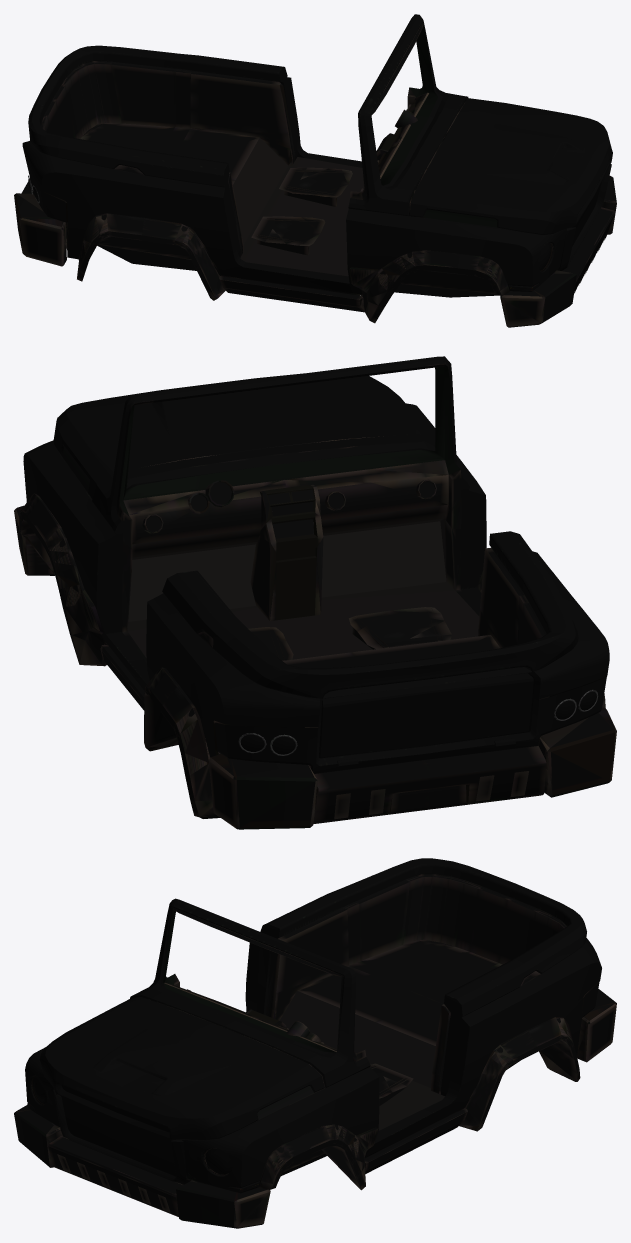
The model's file is vanFrame.fbx.
The picture shows the model from 3 angles, top to bottom: view 1: azimuth 30°, elevation 25°; view 2: azimuth 150°, elevation 25°; view 3: azimuth 270°, elevation 25°; orthographic projection. The views are drawn at different scales.
Visible parts, largest first — view 1: node_id34, node_id32, node_id46; view 2: node_id32, node_id34, node_id52, node_id38; view 3: node_id34, node_id32, node_id42, node_id50.
Part boxes in pixels (x1,y1,x2,y2): node_id34: (22, 14, 612, 294); node_id32: (14, 17, 616, 327); node_id46: (97, 218, 571, 297); node_id32: (14, 362, 616, 829); node_id34: (23, 356, 609, 773); node_id52: (267, 489, 313, 538); node_id38: (240, 691, 596, 754); node_id34: (25, 858, 601, 1189); node_id32: (14, 874, 616, 1228); node_id42: (61, 1084, 176, 1176); node_id50: (33, 1076, 232, 1174).
Bounding box in the file's own units: 0.9464 × 0.3571 × 0.9308.
13 materials, 13 textured.
